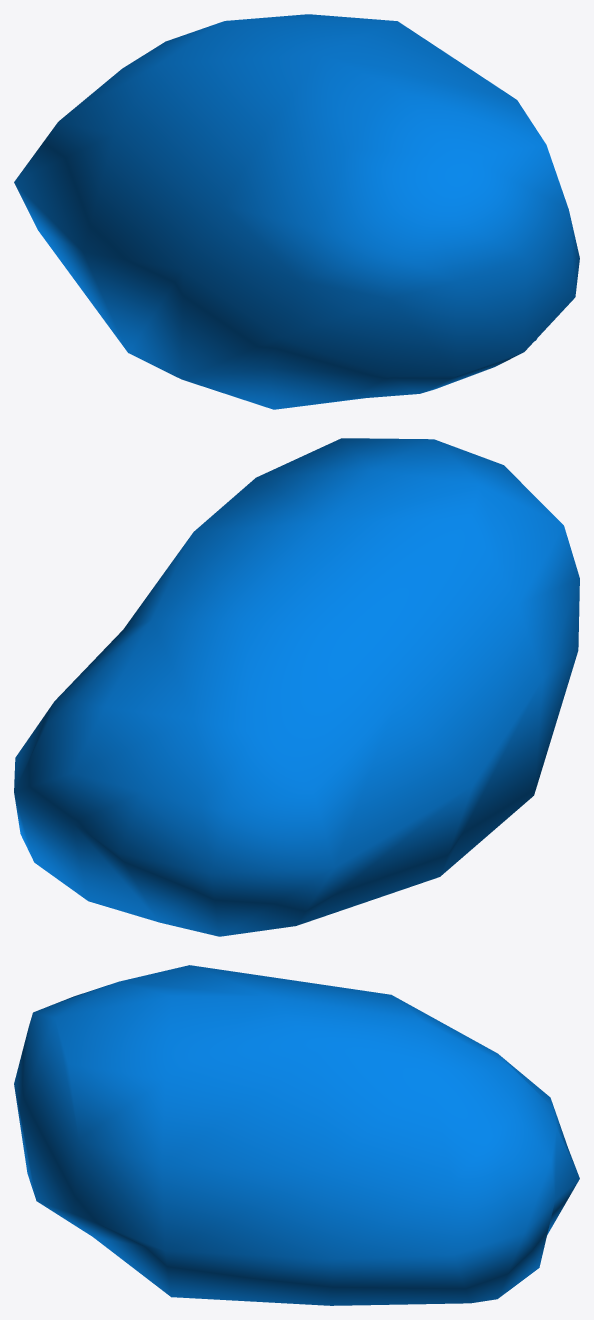
The model's file is Rock_04_Lod1.fbx.
3 renders of one model, top to bottom at view 1: azimuth 30°, elevation 25°; view 2: azimuth 150°, elevation 25°; view 3: azimuth 270°, elevation 25°, orthographic. The views are drawn at different scales.
Visible parts, largest first — view 1: Rock_04_Lod1; view 2: Rock_04_Lod1; view 3: Rock_04_Lod1.
Part boxes in pixels (x1,y1,x2,y2): Rock_04_Lod1: (14,14,579,409); Rock_04_Lod1: (14,438,579,936); Rock_04_Lod1: (14,965,579,1305).
Size of the model in its own units: 3900 by 2970 by 5556.
